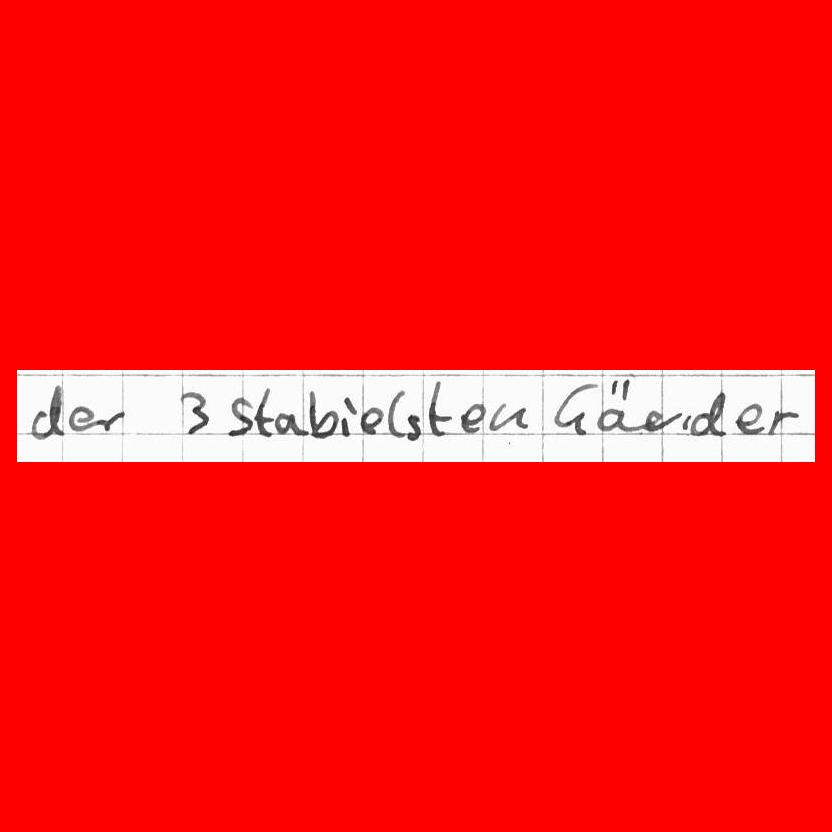Char: (553, 381, 593, 437), (29, 384, 65, 440), (684, 390, 727, 435), (596, 381, 633, 431), (176, 389, 213, 437), (306, 386, 339, 439), (427, 378, 452, 437), (490, 401, 527, 435), (225, 393, 251, 439), (251, 386, 273, 438), (639, 407, 680, 434), (734, 401, 763, 437), (273, 410, 306, 438), (767, 406, 796, 437), (459, 402, 485, 436), (388, 389, 406, 436), (341, 393, 357, 440), (68, 406, 94, 434), (362, 406, 385, 435), (96, 410, 123, 434), (406, 411, 422, 441)
